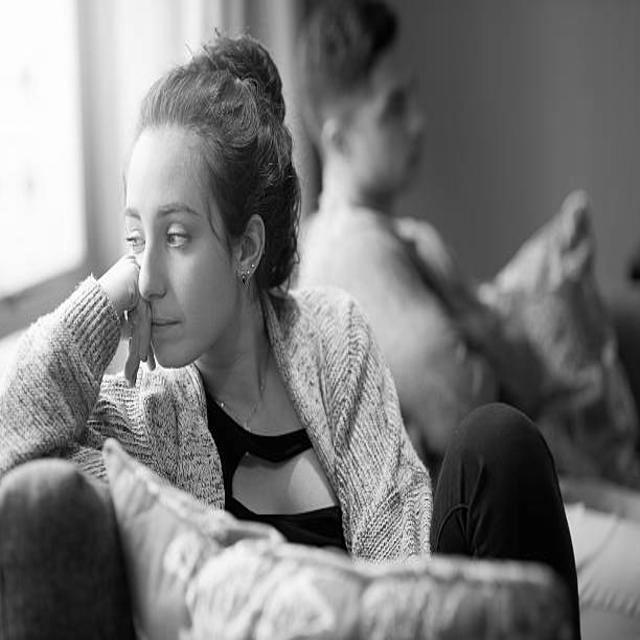Sadness: (120, 132, 232, 372)
